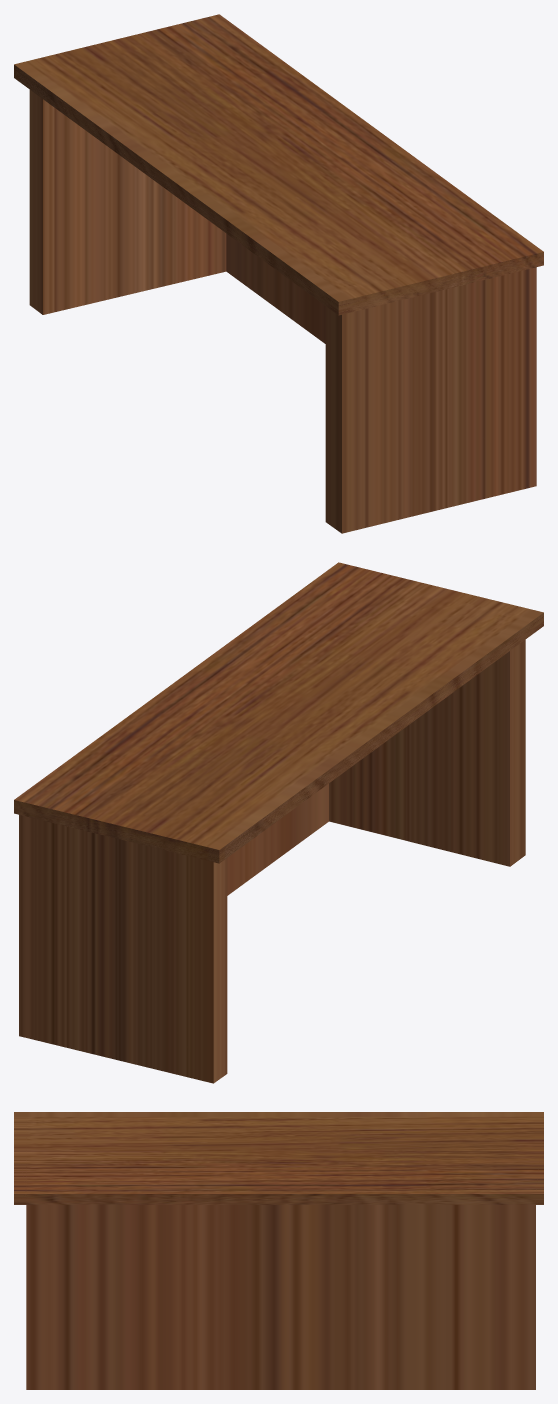
The model's file is Escritorio.obj.
3 views of the same model, one above another, from view 1: azimuth 30°, elevation 25°; view 2: azimuth 150°, elevation 25°; view 3: azimuth 270°, elevation 25° (orthographic). The views are drawn at different scales.
Visible parts, largest first — view 1: Escritorio; view 2: Escritorio; view 3: Escritorio.
Part boxes in pixels (<box>): Escritorio: <box>14,14,543,533</box>; Escritorio: <box>14,562,543,1083</box>; Escritorio: <box>14,1112,543,1389</box>.
Bounding box in the file's own units: 3.08 × 3.44 × 8.43.
